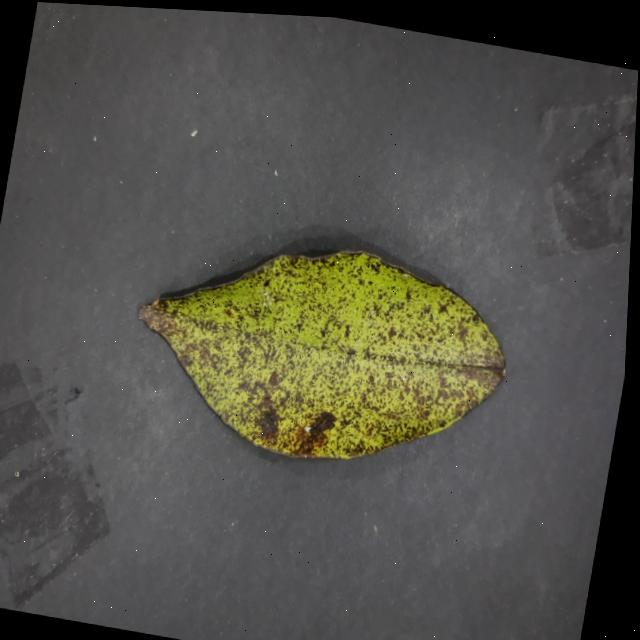greasy_spot: (139, 253, 504, 459)
